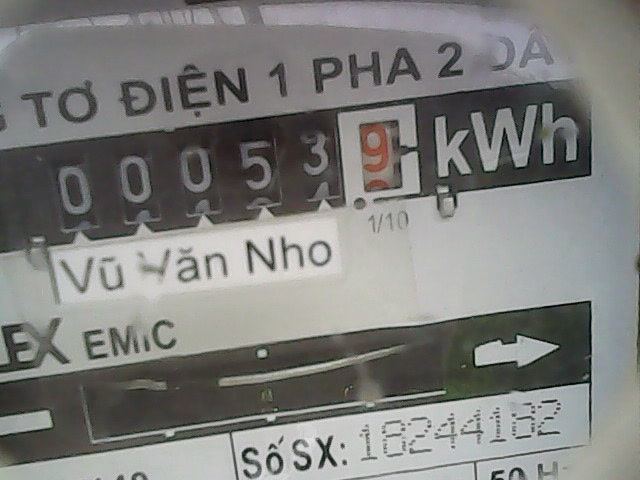phy_plate: (41, 98, 427, 236)
